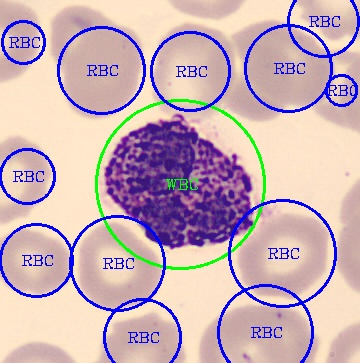RBC: (235, 15, 335, 108), (235, 205, 332, 300), (149, 21, 235, 124), (59, 18, 143, 120), (74, 219, 164, 311), (196, 302, 320, 362), (213, 42, 288, 125), (0, 224, 72, 296), (47, 3, 122, 72), (0, 132, 52, 227), (93, 312, 188, 362), (304, 48, 358, 134)
WBC: (100, 113, 265, 251)
